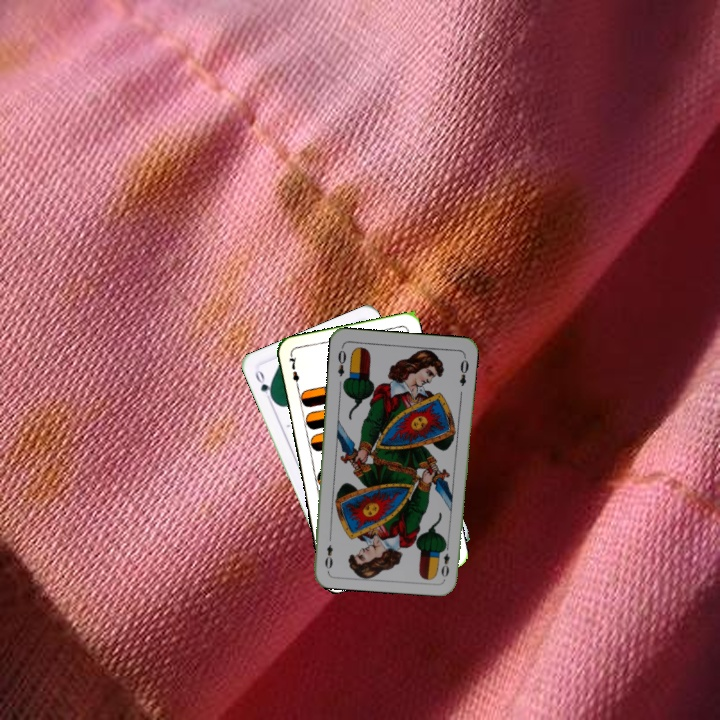E7: (284, 351, 302, 392)
EO: (437, 540, 452, 580), (333, 343, 349, 379)
GO: (251, 366, 276, 405)
